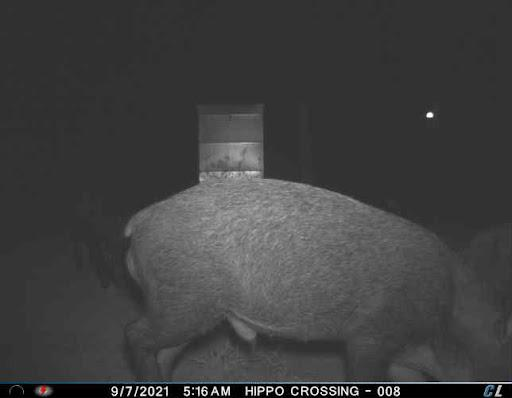Hog: (118, 172, 508, 383)
